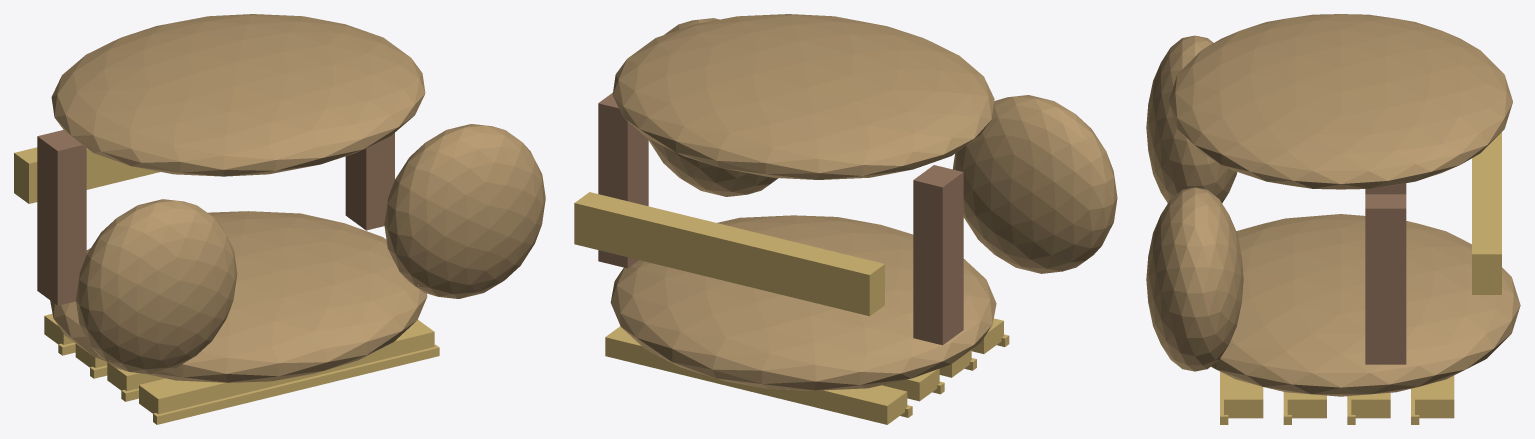
Rendered from captain_armour_bronze.glb.
3 views of the same model, side by side, from view 1: azimuth 30°, elevation 25°; view 2: azimuth 150°, elevation 25°; view 3: azimuth 270°, elevation 25° (orthographic). The views are drawn at different scales.
Visible parts, largest first — view 1: cuirass_back, shoulder_guard (×2), cuirass_front, side_strap (×2), front_segment_3, front_trim_3, lower_armour_rim, front_segment_2; view 2: cuirass_back, cuirass_front, shoulder_guard (×2), lower_armour_rim, side_strap (×2), front_segment_0, front_segment_1, front_segment_3; view 3: cuirass_back, cuirass_front, shoulder_guard (×2), side_strap (×2), lower_armour_rim, front_segment_3, front_segment_0, front_segment_2, front_segment_1.
Part boxes in pixels (box(x1,y1,x2,y2)): cuirass_back: box(51, 14, 425, 176); shoulder_guard (×2): box(76, 124, 545, 374); cuirass_front: box(50, 211, 427, 382); side_strap (×2): box(37, 130, 394, 305); front_segment_3: box(139, 320, 434, 414); front_trim_3: box(153, 344, 439, 424); lower_armour_rim: box(14, 147, 159, 203); front_segment_2: box(107, 362, 164, 390); cuirass_back: box(612, 14, 994, 179); cuirass_front: box(610, 215, 996, 390); shoulder_guard (×2): box(648, 18, 1117, 273); lower_armour_rim: box(574, 192, 884, 316); side_strap (×2): box(598, 92, 963, 345); front_segment_0: box(605, 326, 907, 424); front_segment_1: box(882, 368, 939, 401); front_segment_3: box(971, 318, 1003, 353); cuirass_back: box(1169, 14, 1512, 189); cuirass_front: box(1211, 214, 1520, 396); shoulder_guard (×2): box(1146, 35, 1243, 371); side_strap (×2): box(1365, 183, 1406, 364); lower_armour_rim: box(1472, 132, 1501, 294); front_segment_3: box(1224, 373, 1263, 418); front_segment_0: box(1415, 375, 1454, 418); front_segment_2: box(1287, 392, 1326, 418); front_segment_1: box(1351, 392, 1390, 418).
Size of the model in its own units: 1.44 by 0.8675 by 1.
